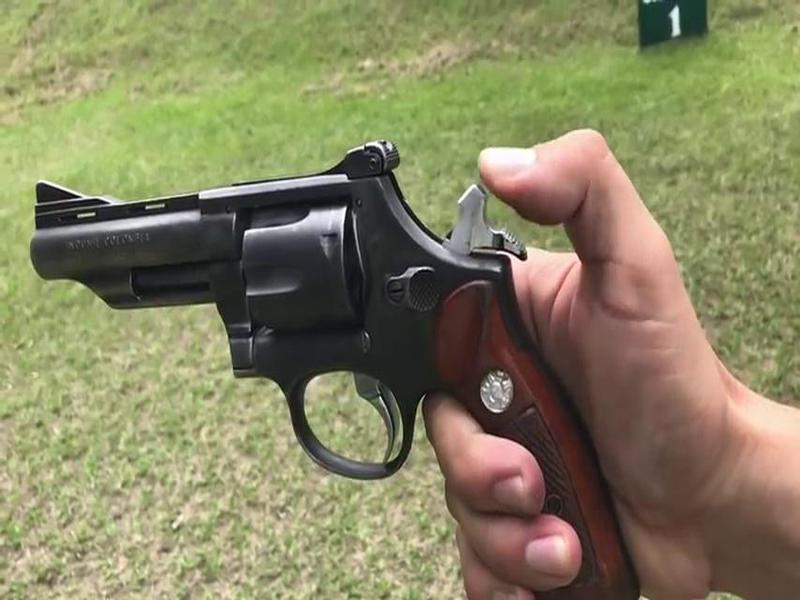Revolver: (18, 138, 552, 533)
